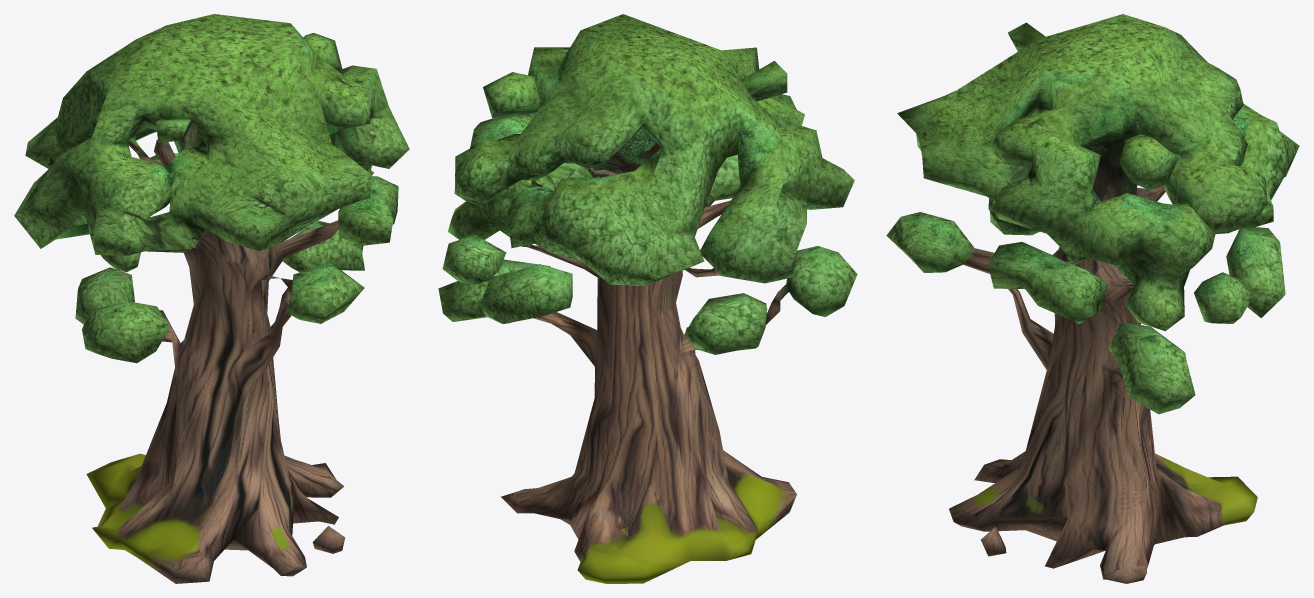
Rendered from p_tree_large.glb.
The picture shows the model from 3 angles, left to right: view 1: azimuth 30°, elevation 25°; view 2: azimuth 150°, elevation 25°; view 3: azimuth 270°, elevation 25°; orthographic projection.
Parts seen in each view (by area): view 1: Mesh_0; view 2: Mesh_0; view 3: Mesh_0.
Part boxes in pixels (bbox=[...]): Mesh_0: bbox=[14, 14, 409, 583]; Mesh_0: bbox=[438, 14, 857, 583]; Mesh_0: bbox=[886, 14, 1299, 583].
Size of the model in its own units: 1.38 by 1.82 by 1.4.
1 material, 1 textured.
